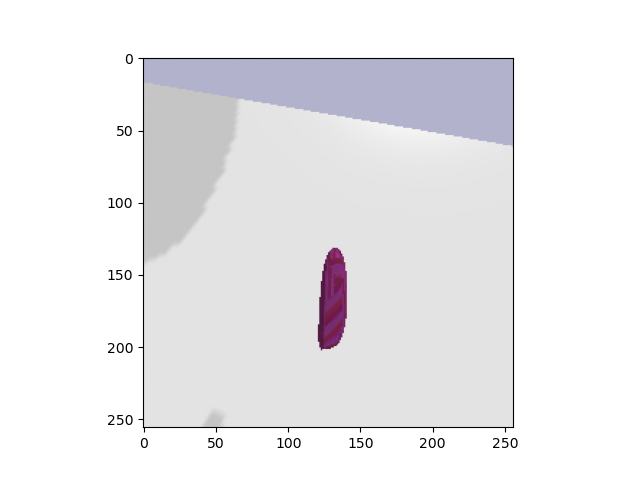v249b387_105: (313, 241, 355, 352)
